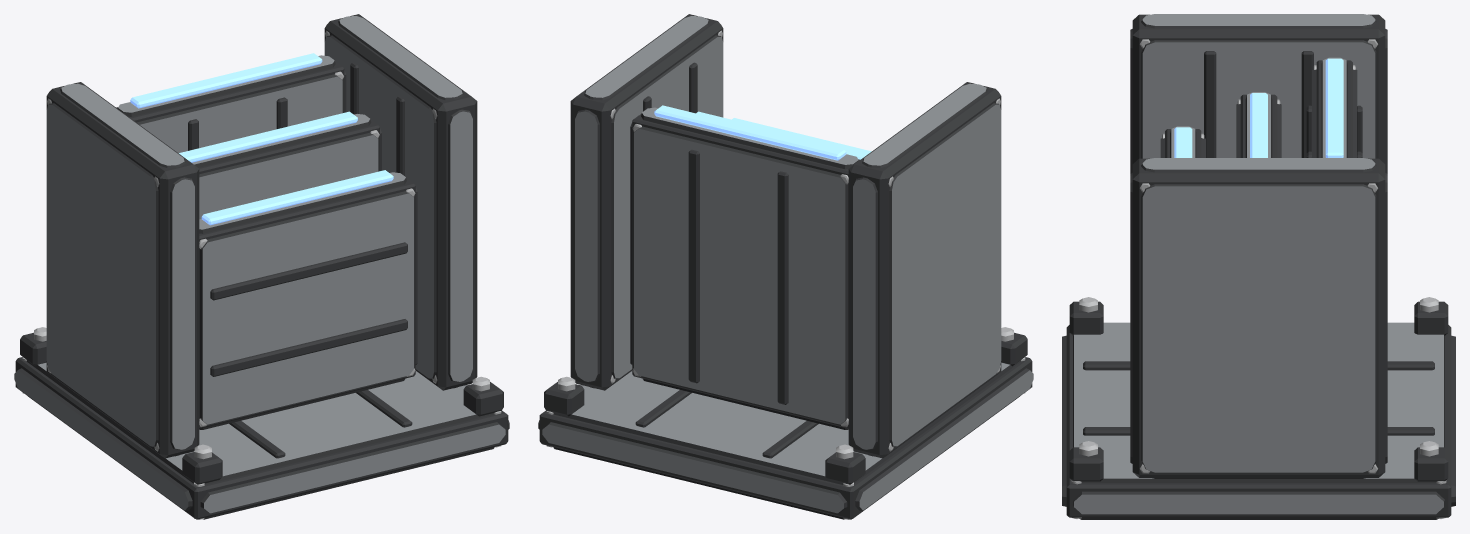
Rendered from R4X_WallDeployer.fbx.
The picture shows the model from 3 angles, left to right: view 1: azimuth 30°, elevation 25°; view 2: azimuth 150°, elevation 25°; view 3: azimuth 270°, elevation 25°; orthographic projection. The views are drawn at different scales.
Parts seen in each view (by area): view 1: R4X_WallDeployer_Body, R4X_WallDeployer_Panels; view 2: R4X_WallDeployer_Body, R4X_WallDeployer_Panels; view 3: R4X_WallDeployer_Body, R4X_WallDeployer_Panels.
Boxes of the visible parts, left/top/right/bottom form: R4X_WallDeployer_Body: left=14, top=14, right=509, bottom=519; R4X_WallDeployer_Panels: left=116, top=53, right=417, bottom=429; R4X_WallDeployer_Body: left=538, top=14, right=1033, bottom=519; R4X_WallDeployer_Panels: left=630, top=105, right=871, bottom=429; R4X_WallDeployer_Body: left=1062, top=14, right=1455, bottom=519; R4X_WallDeployer_Panels: left=1160, top=57, right=1362, bottom=157.
Bounding box in the file's own units: 0.52 × 0.51 × 0.52.
